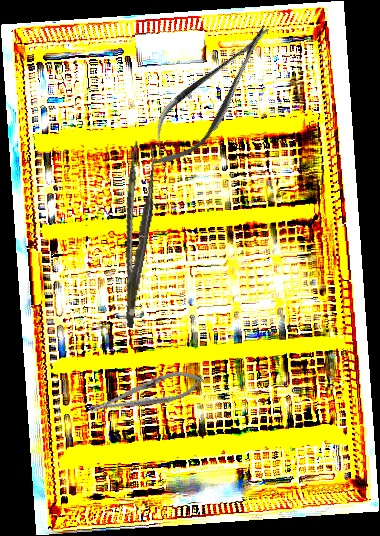Micro Scissor: (132, 11, 290, 181)
Needle Holder: (86, 364, 207, 423)
Tissue Forceps: (103, 140, 165, 329)
